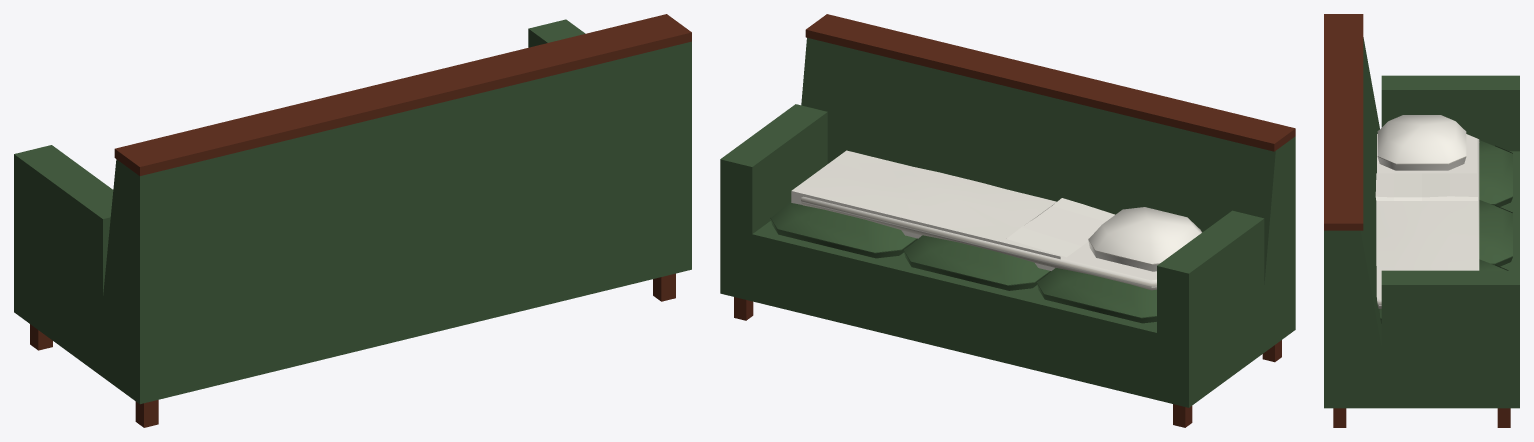
3 renders of one model, left to right at view 1: azimuth 30°, elevation 25°; view 2: azimuth 150°, elevation 25°; view 3: azimuth 270°, elevation 25°, orthographic. The views are drawn at different scales.
Parts seen in each view (by area): view 1: parametric-variant-sofa-1st-812a85e1e144561ded45; view 2: parametric-variant-sofa-1st-812a85e1e144561ded45; view 3: parametric-variant-sofa-1st-812a85e1e144561ded45.
Part boxes in pixels (x1=…): parametric-variant-sofa-1st-812a85e1e144561ded45: x1=14, y1=14, x2=691, y2=427; parametric-variant-sofa-1st-812a85e1e144561ded45: x1=720, y1=14, x2=1295, y2=427; parametric-variant-sofa-1st-812a85e1e144561ded45: x1=1324, y1=14, x2=1519, y2=427.
Bounding box in the file's own units: 1.9 × 0.88 × 0.75.
